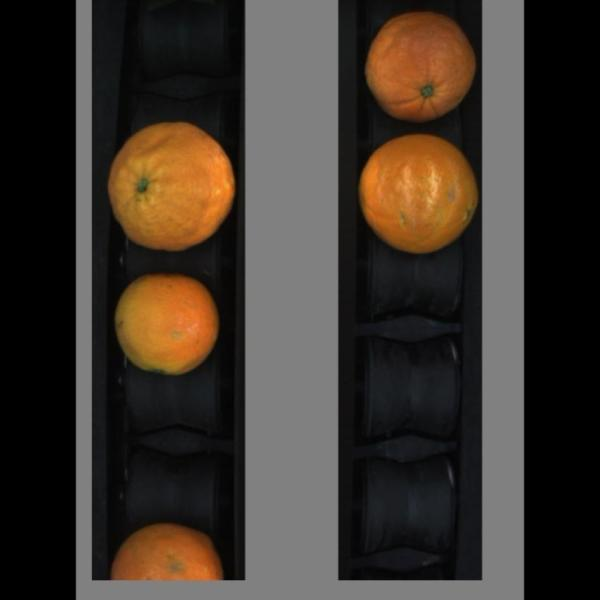Otros defectos: (103, 119, 245, 257), (346, 121, 483, 262), (364, 6, 483, 128), (106, 268, 231, 384), (102, 520, 240, 588)
